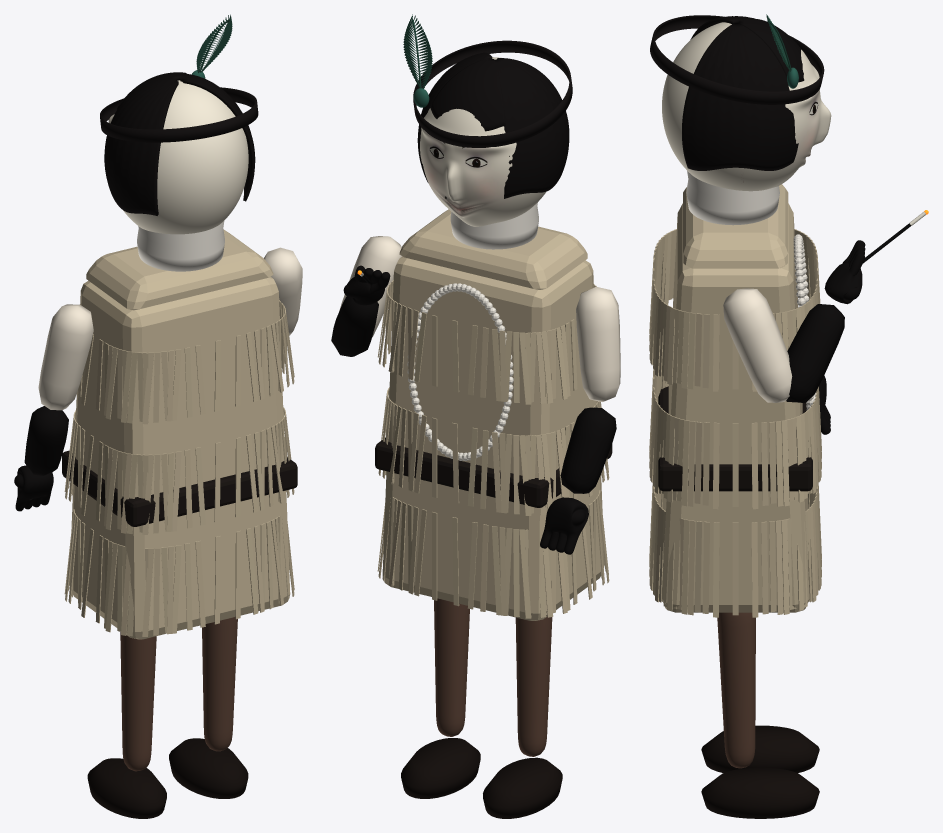
The model's file is mascara_festeira.glb.
3 views of the same model, side by side, from view 1: azimuth 30°, elevation 25°; view 2: azimuth 150°, elevation 25°; view 3: azimuth 270°, elevation 25° (orthographic). The views are drawn at different scales.
Parts seen in each view (by area): view 1: vestido, franja, franja.001, mascara, franja.002, ombros, cabelo.001, faixa_quadril, perna, braco, perna.001, sapato (+8 smaller); view 2: vestido, franja, franja.002, franja.001, mascara, ombros, cabelo.001, perna, braco, perna.001, faixa, sapato.001 (+11 smaller); view 3: vestido, cabelo, franja, franja.001, franja.002, mascara, ombros, perna.001, braco.001, sapato.001, faixa, luva_longa.001 (+5 smaller).
Boxes of the visible parts, box(x1,y1,x2,y2) form: vestido: box(69, 276, 290, 639); franja: box(64, 509, 294, 636); franja.001: box(64, 407, 294, 534); mascara: box(108, 80, 248, 234); franja.002: box(78, 300, 294, 424); ombros: box(86, 229, 273, 310); cabelo.001: box(104, 79, 178, 215); faixa_quadril: box(62, 450, 297, 526); perna: box(120, 632, 156, 771); braco: box(38, 304, 93, 410); perna.001: box(202, 617, 237, 751); sapato: box(87, 758, 166, 818); vestido: box(382, 256, 604, 620); franja: box(377, 490, 609, 618); franja.002: box(377, 280, 596, 404); franja.001: box(378, 387, 609, 515); mascara: box(420, 57, 545, 226); ombros: box(399, 209, 587, 289); cabelo.001: box(494, 58, 569, 198); perna: box(515, 616, 552, 756); braco: box(576, 286, 620, 401); perna.001: box(434, 598, 469, 736); faixa: box(413, 40, 572, 147); sapato.001: box(401, 738, 480, 798); vestido: box(661, 203, 809, 612); cabelo: box(682, 23, 798, 170); franja: box(649, 482, 821, 617); franja.001: box(649, 369, 821, 509); franja.002: box(649, 229, 820, 391); mascara: box(662, 22, 831, 191); ombros: box(683, 184, 788, 268); perna.001: box(717, 612, 755, 768); braco.001: box(723, 288, 792, 402); sapato.001: box(701, 767, 819, 818); faixa: box(650, 15, 824, 104); luva_longa.001: box(786, 304, 844, 402).
Bounding box in the file's own units: 0.6582 × 1.78 × 0.5611.
Materials: 17 (1 with a texture image).
